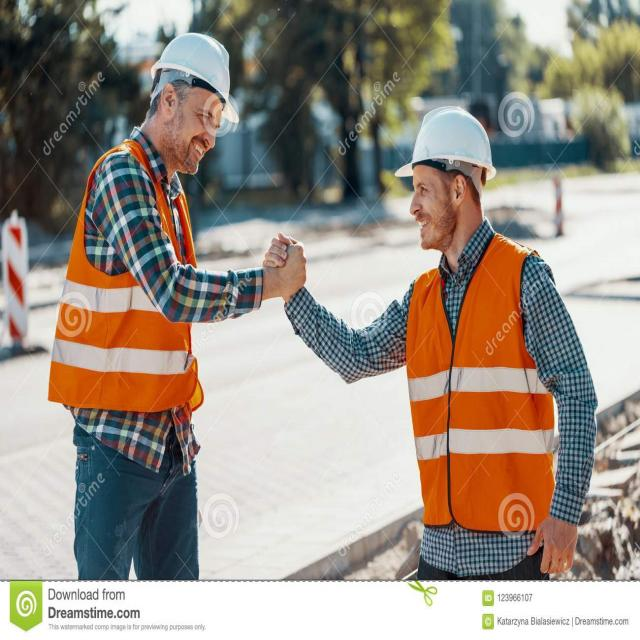Reflective-Jacket: (404, 231, 559, 534), (46, 140, 204, 434)
Safety-Helmet: (394, 100, 499, 184), (150, 28, 240, 119)
